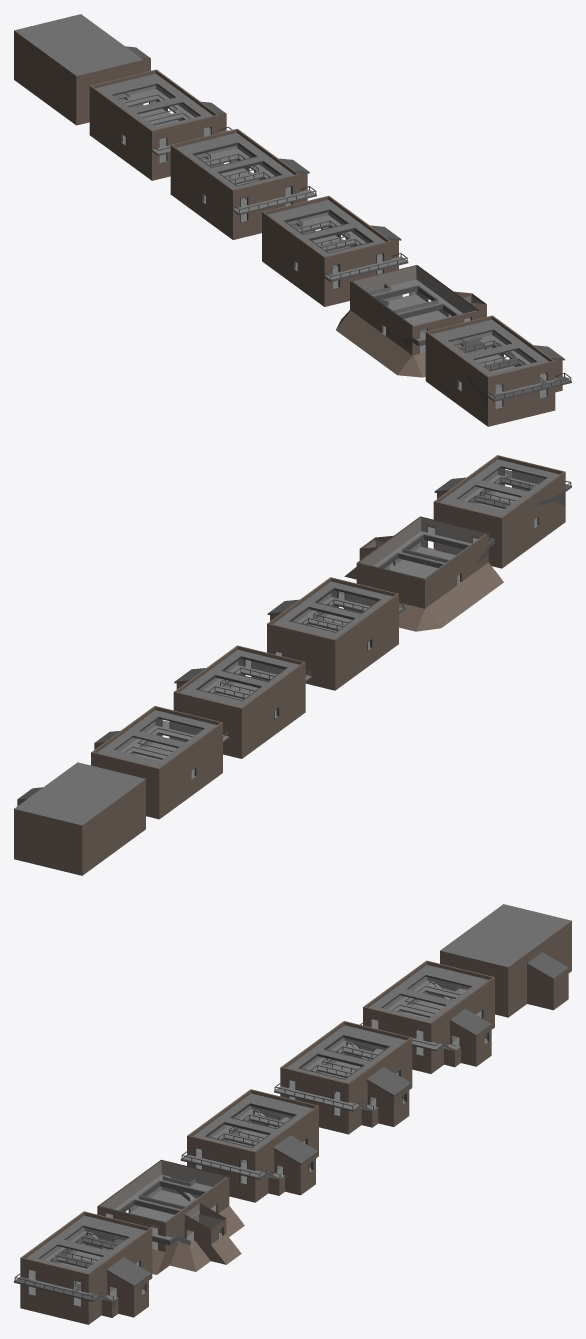
Rendered from Industrial_0.fbx.
The picture shows the model from 3 angles, top to bottom: view 1: azimuth 30°, elevation 25°; view 2: azimuth 150°, elevation 25°; view 3: azimuth 330°, elevation 25°; orthographic projection.
Visible parts, largest first — view 1: Industrial_Clip, Industrial_1, Industrial_0, Industrial_Nav, Industrial_2, Industrial_Skybox; view 2: Industrial_Skybox, Industrial_Nav, Industrial_0, Industrial_1, Industrial_Clip, Industrial_2; view 3: Industrial_Clip, Industrial_1, Industrial_0, Industrial_2, Industrial_Nav, Industrial_Skybox.
Boxes of the visible parts, x1,y1,x2,y2 form: Industrial_Clip: (425, 315, 571, 426); Industrial_1: (170, 128, 316, 239); Industrial_0: (262, 195, 408, 306); Industrial_Nav: (336, 265, 486, 377); Industrial_2: (89, 69, 232, 180); Industrial_Skybox: (14, 14, 150, 125); Industrial_Skybox: (14, 762, 145, 875); Industrial_Nav: (343, 516, 503, 631); Industrial_0: (267, 577, 405, 690); Industrial_1: (173, 645, 311, 758); Industrial_Clip: (433, 455, 571, 568); Industrial_2: (91, 706, 229, 819); Industrial_Clip: (14, 1211, 152, 1324); Industrial_1: (274, 1021, 412, 1134); Industrial_0: (180, 1089, 318, 1202); Industrial_2: (360, 960, 494, 1073); Industrial_Nav: (97, 1159, 244, 1274); Industrial_Skybox: (440, 904, 571, 1017).
Bounding box in the file's own units: 40.5 × 15.5 × 273.
Materials: 1 (1 with a texture image).
